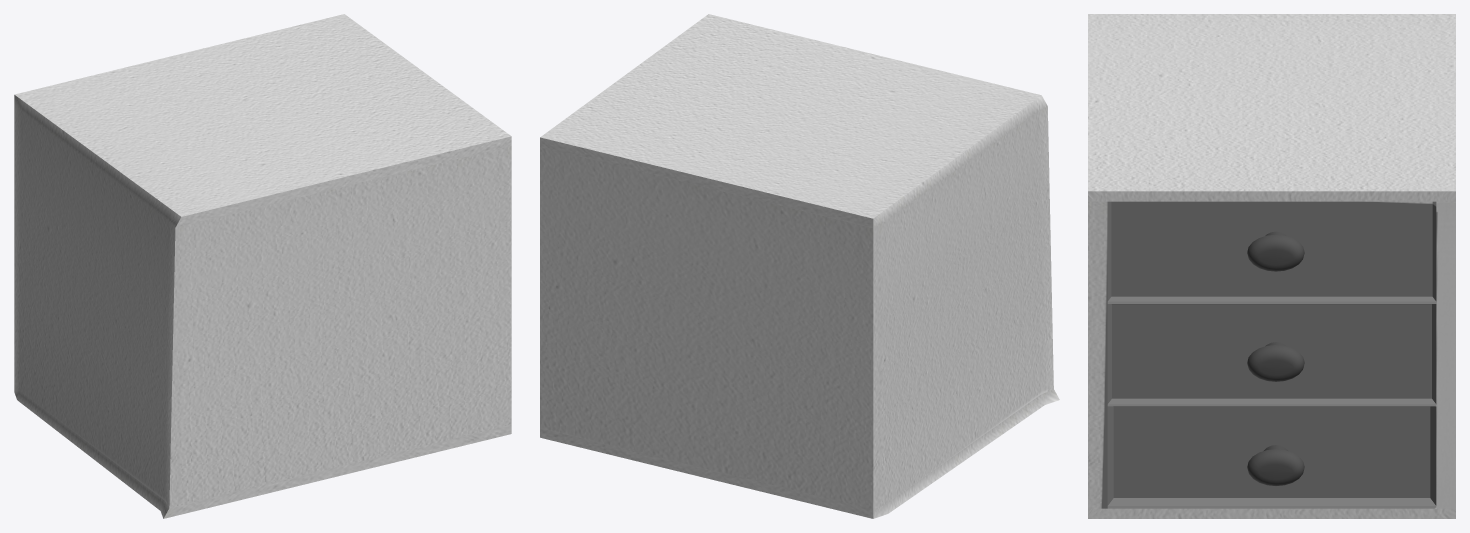
Rendered from Desk_Storage.fbx.
The picture shows the model from 3 angles, left to right: view 1: azimuth 30°, elevation 25°; view 2: azimuth 150°, elevation 25°; view 3: azimuth 270°, elevation 25°; orthographic projection. The views are drawn at different scales.
Visible parts, largest first — view 1: polySurface391; view 2: polySurface391; view 3: polySurface391.
Part boxes in pixels (x1,y1,x2,y2): polySurface391: (14, 14, 511, 518); polySurface391: (540, 14, 1059, 518); polySurface391: (1088, 14, 1455, 518).
Bounding box in the file's own units: 0.2723 × 0.2131 × 0.2169.
